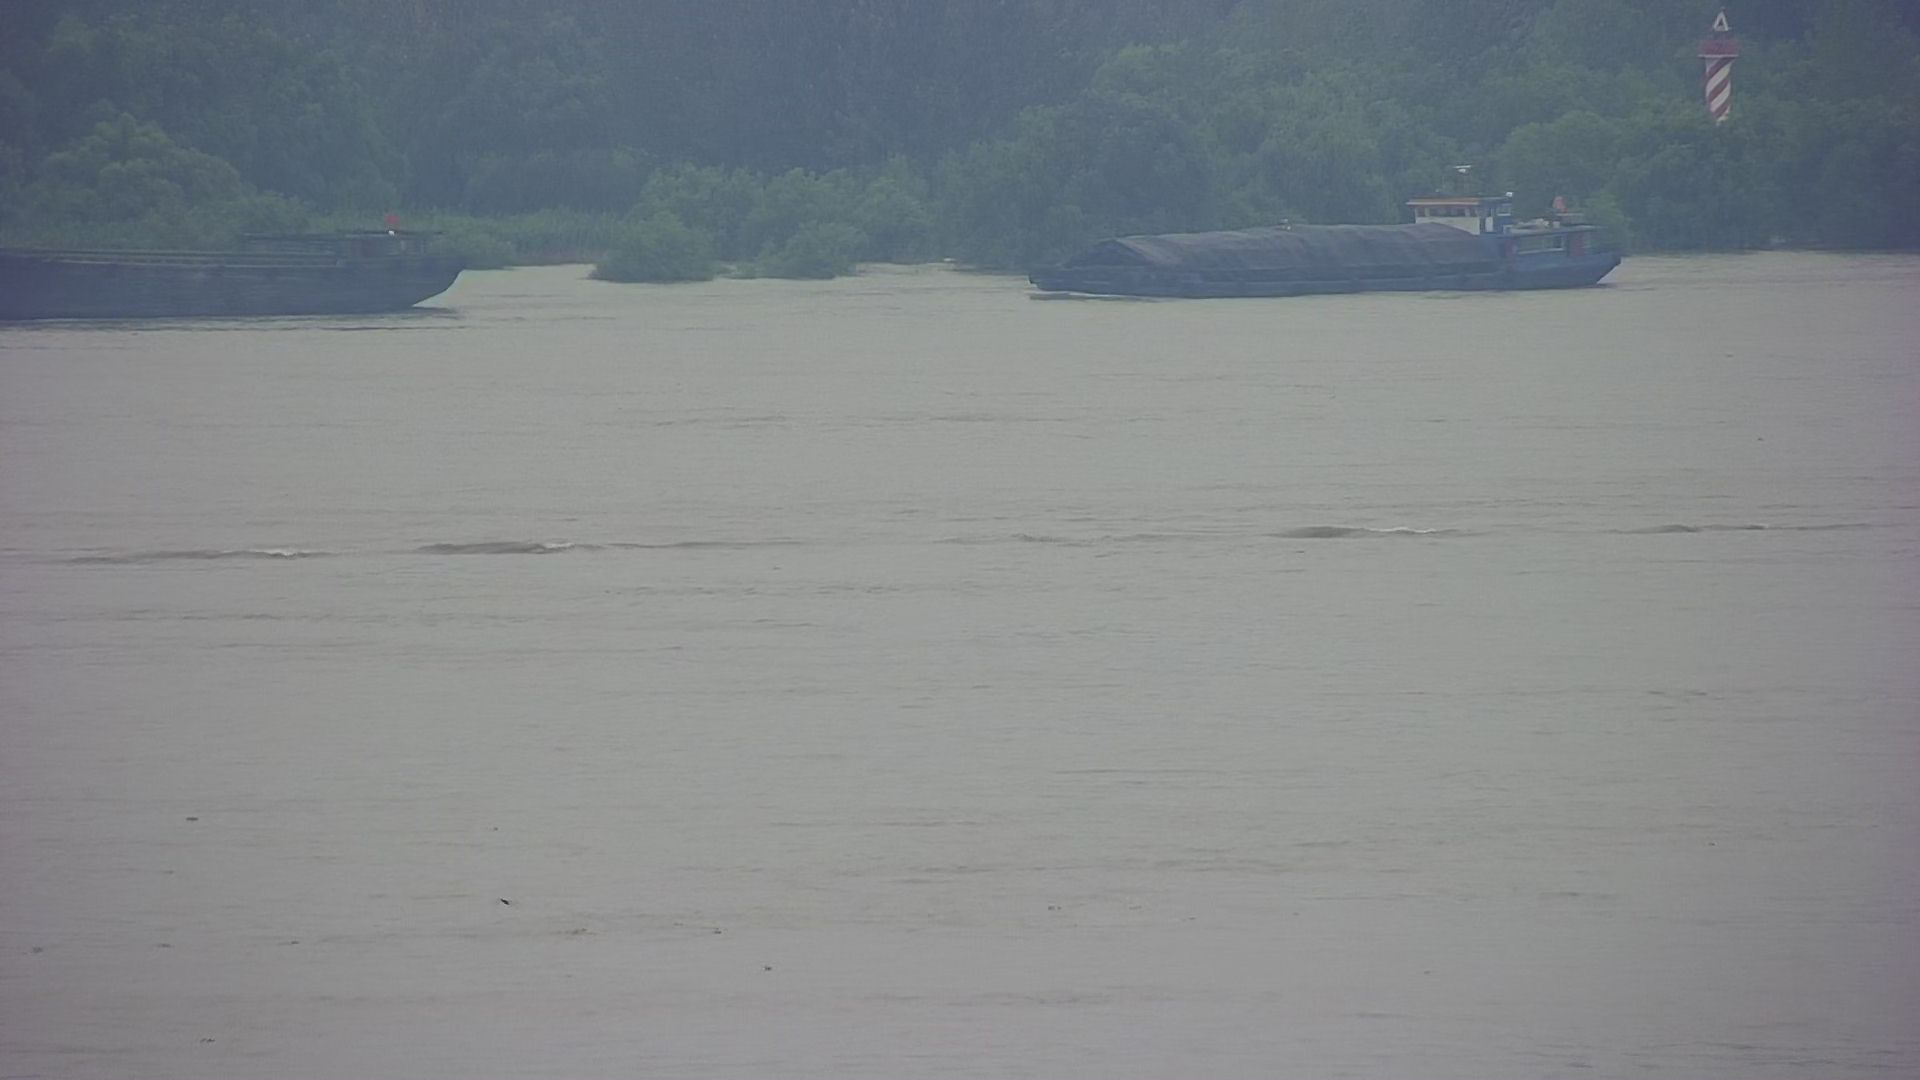ship: (1006, 149, 1654, 318), (1, 193, 487, 328)
